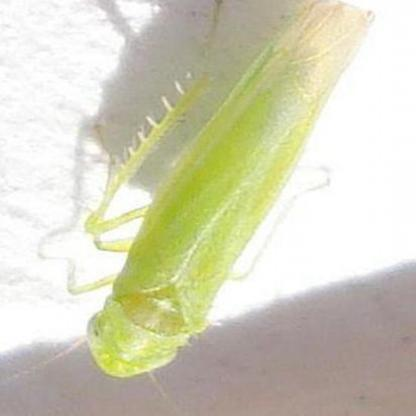green-leafhopper: (61, 3, 377, 378)
